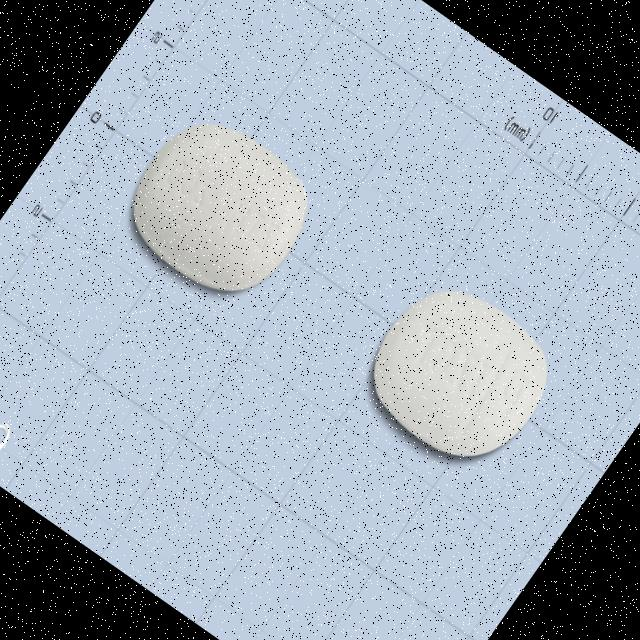Zithromax Tab: (347, 262, 570, 483), (110, 100, 328, 314)
